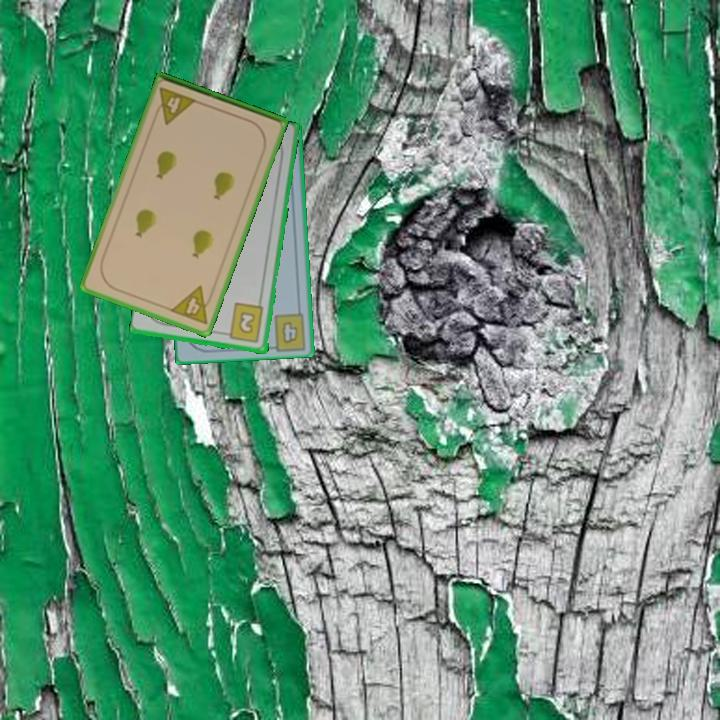2b: (220, 300, 266, 346)
4b: (279, 319, 301, 347)
4p: (167, 282, 217, 328), (150, 84, 199, 127)
